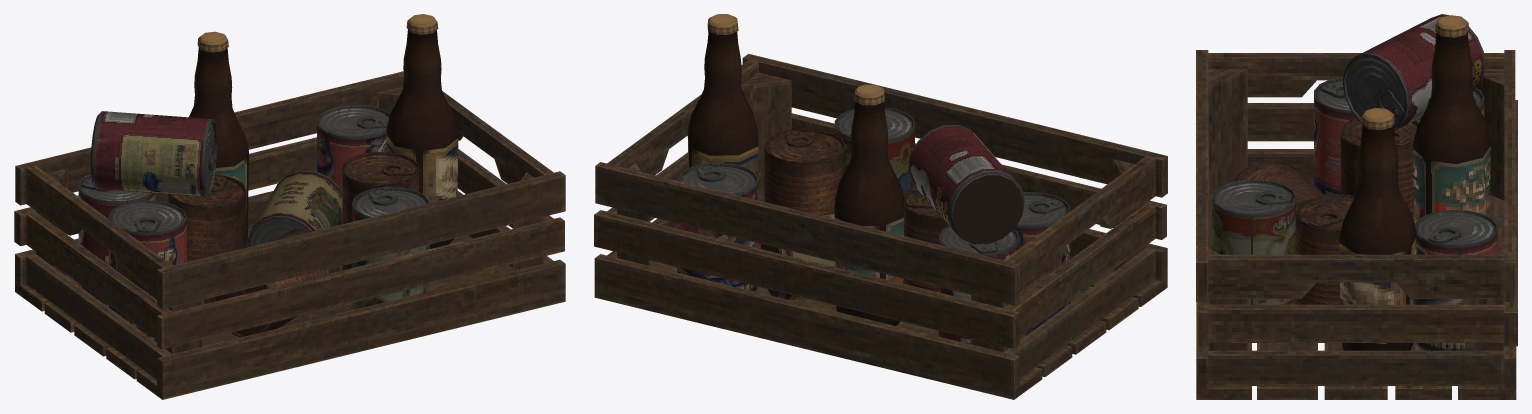
File: supply_crate_1.glb
The picture shows the model from 3 angles, left to right: view 1: azimuth 30°, elevation 25°; view 2: azimuth 150°, elevation 25°; view 3: azimuth 270°, elevation 25°; orthographic projection. The views are drawn at different scales.
Parts seen in each view (by area): view 1: supply_crate_1; view 2: supply_crate_1; view 3: supply_crate_1.
Boxes of the visible parts, bbox=[...] form: supply_crate_1: bbox=[14, 14, 565, 399]; supply_crate_1: bbox=[594, 14, 1167, 399]; supply_crate_1: bbox=[1196, 14, 1517, 399].
Bounding box in the file's own units: 0.668 × 0.3725 × 0.4262.
Materials: 3 (3 with a texture image).
